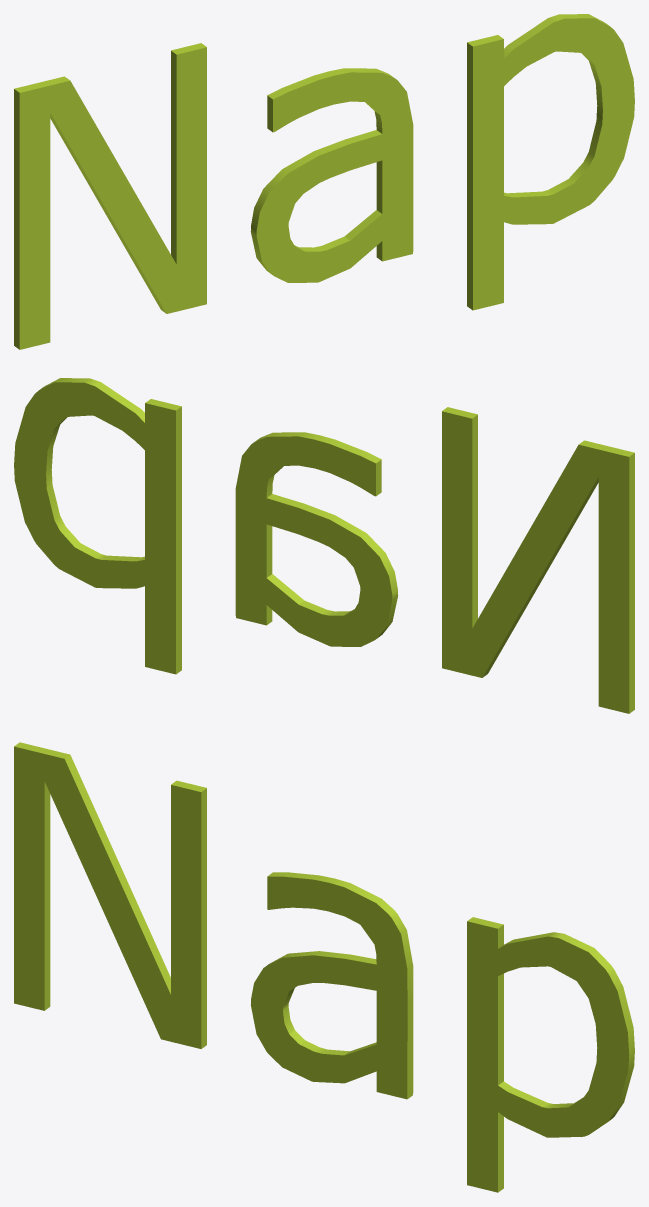
File: nap.fbx
3 renders of one model, top to bottom at view 1: azimuth 30°, elevation 25°; view 2: azimuth 150°, elevation 25°; view 3: azimuth 330°, elevation 25°, orthographic.
Visible parts, largest first — view 1: Trim_Char_N_1_1, Trim_Char_p_1_1, Trim_Char_a_1_1; view 2: Trim_Char_N_1_1, Trim_Char_p_1_1, Trim_Char_a_1_1; view 3: Trim_Char_N_1_1, Trim_Char_p_1_1, Trim_Char_a_1_1.
Part boxes in pixels (<box>): Trim_Char_N_1_1: <box>14,43,206,349</box>; Trim_Char_p_1_1: <box>467,14,634,310</box>; Trim_Char_a_1_1: <box>250,68,413,282</box>; Trim_Char_N_1_1: <box>442,407,634,713</box>; Trim_Char_p_1_1: <box>14,378,181,674</box>; Trim_Char_a_1_1: <box>235,432,398,646</box>; Trim_Char_N_1_1: <box>14,742,206,1048</box>; Trim_Char_p_1_1: <box>467,917,634,1192</box>; Trim_Char_a_1_1: <box>251,872,413,1099</box>.
Size of the model in its own units: 1.8 by 0.9169 by 0.0294.
1 material, 1 textured.
